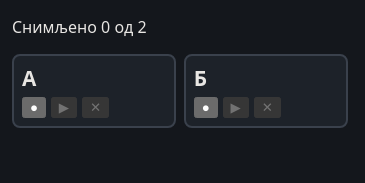
Test: Recorder › an empty recording shows its own line and is never saved
Step 1. Click the button named "Сними" → x=34, y=107, box [22,97,46,118]
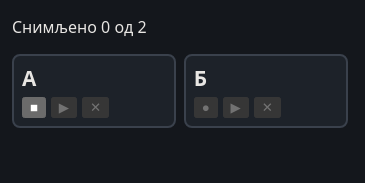
Step 2. Click the button named "Стоп" → x=34, y=107, box [22,97,46,118]
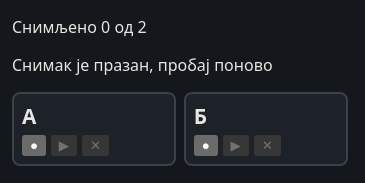
Expected: the text "Снимљено 0 од 2" is shown, [12,16,147,38]
Expected: the message shows "Снимак је празан", [12,54,273,76]
